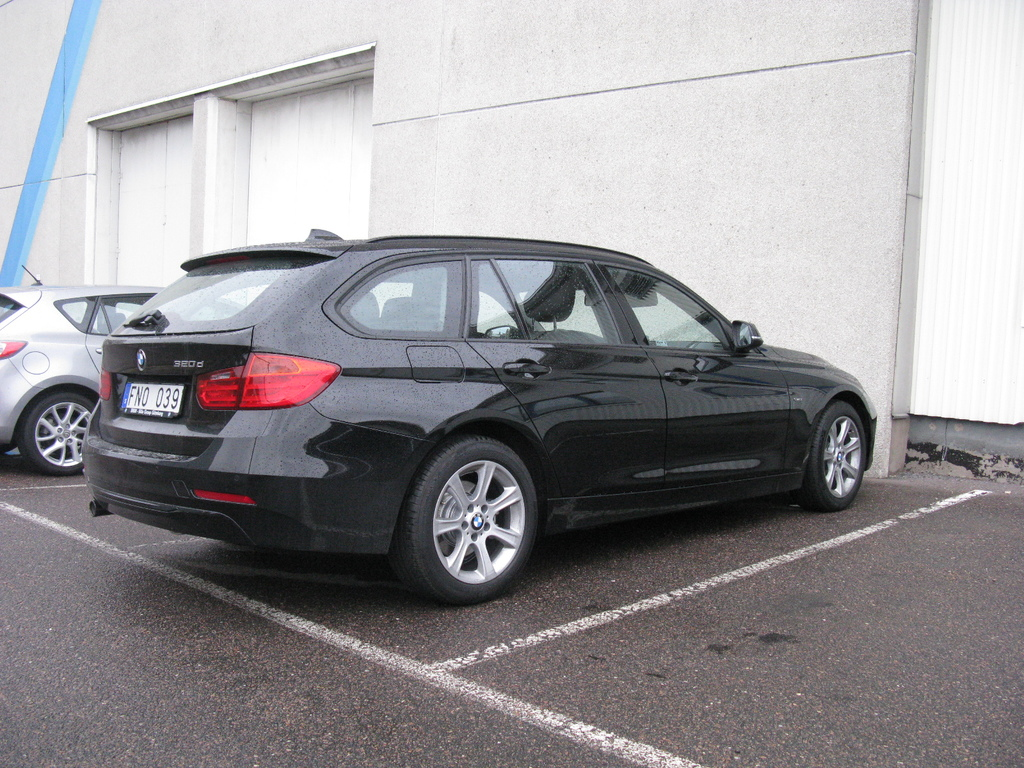license plate: (122, 374, 188, 409)
